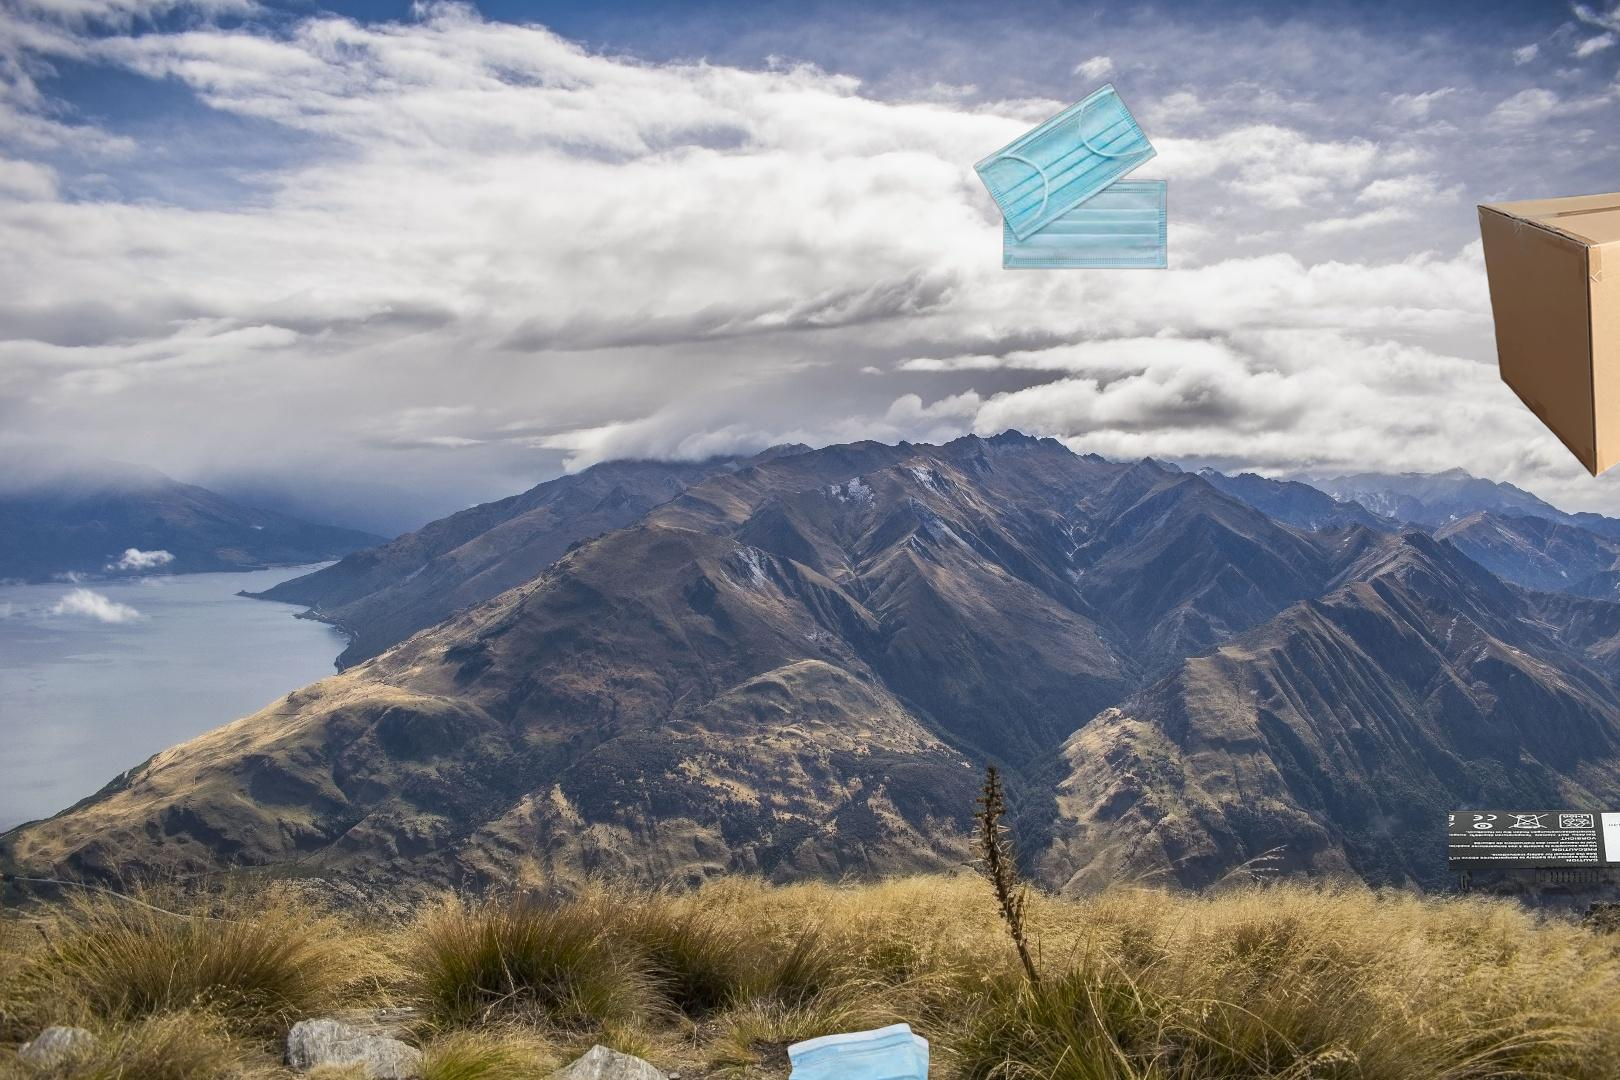battery: (1449, 808, 1620, 951)
trash: (972, 81, 1170, 272), (736, 1020, 932, 1080)
trashbox-cardboard: (1473, 186, 1620, 480)
